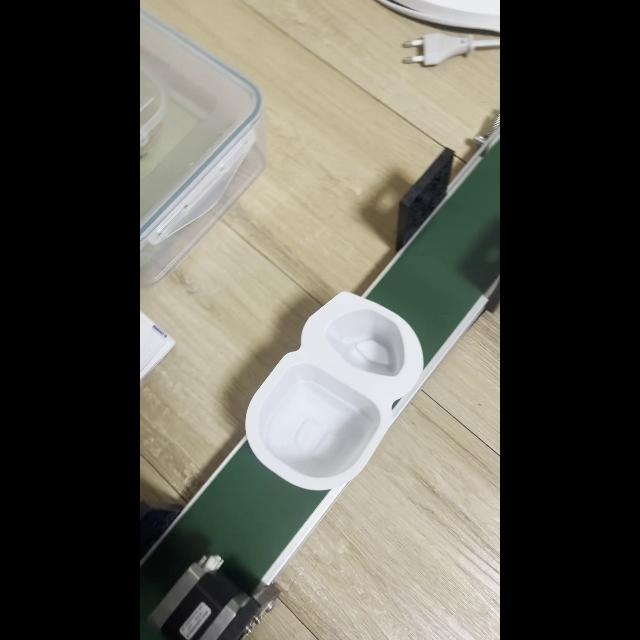clean: (248, 286, 406, 478)
